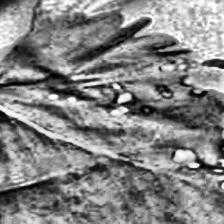Leaf Spot: (0, 9, 224, 224)
